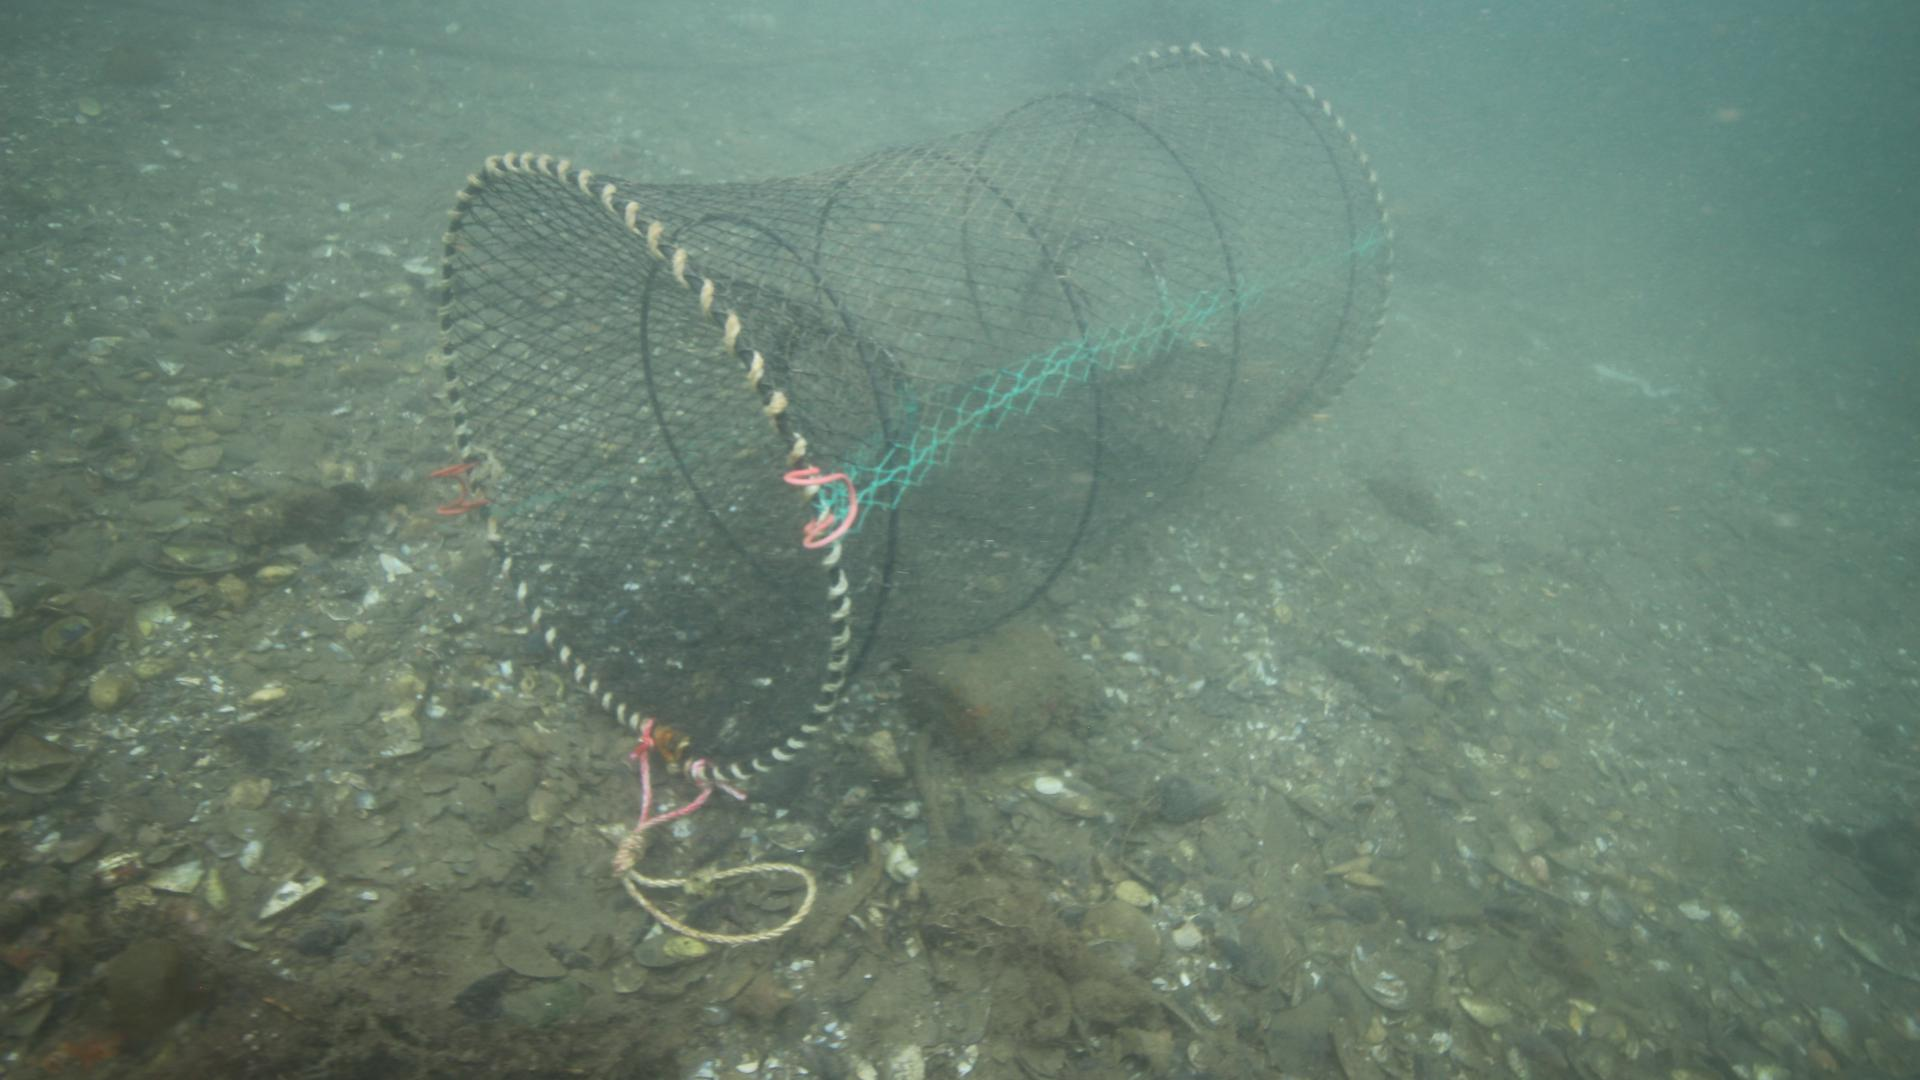bundle of ropes: (599, 742, 816, 952)
spring fish trap: (434, 44, 1393, 789)
